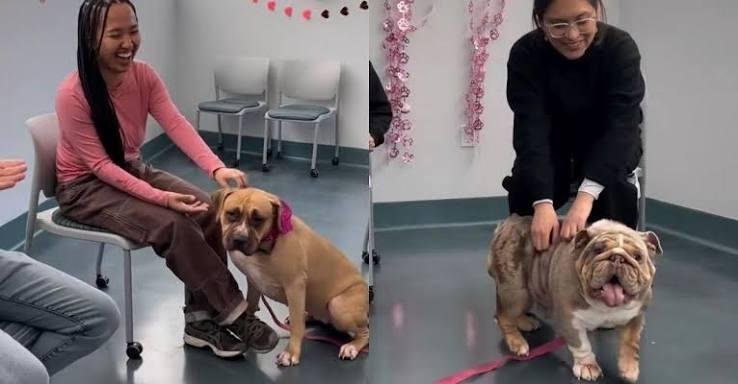adult_dog: (204, 183, 370, 368), (488, 214, 663, 384)
non-dog: (53, 1, 279, 360), (502, 0, 646, 250), (0, 159, 117, 384)
